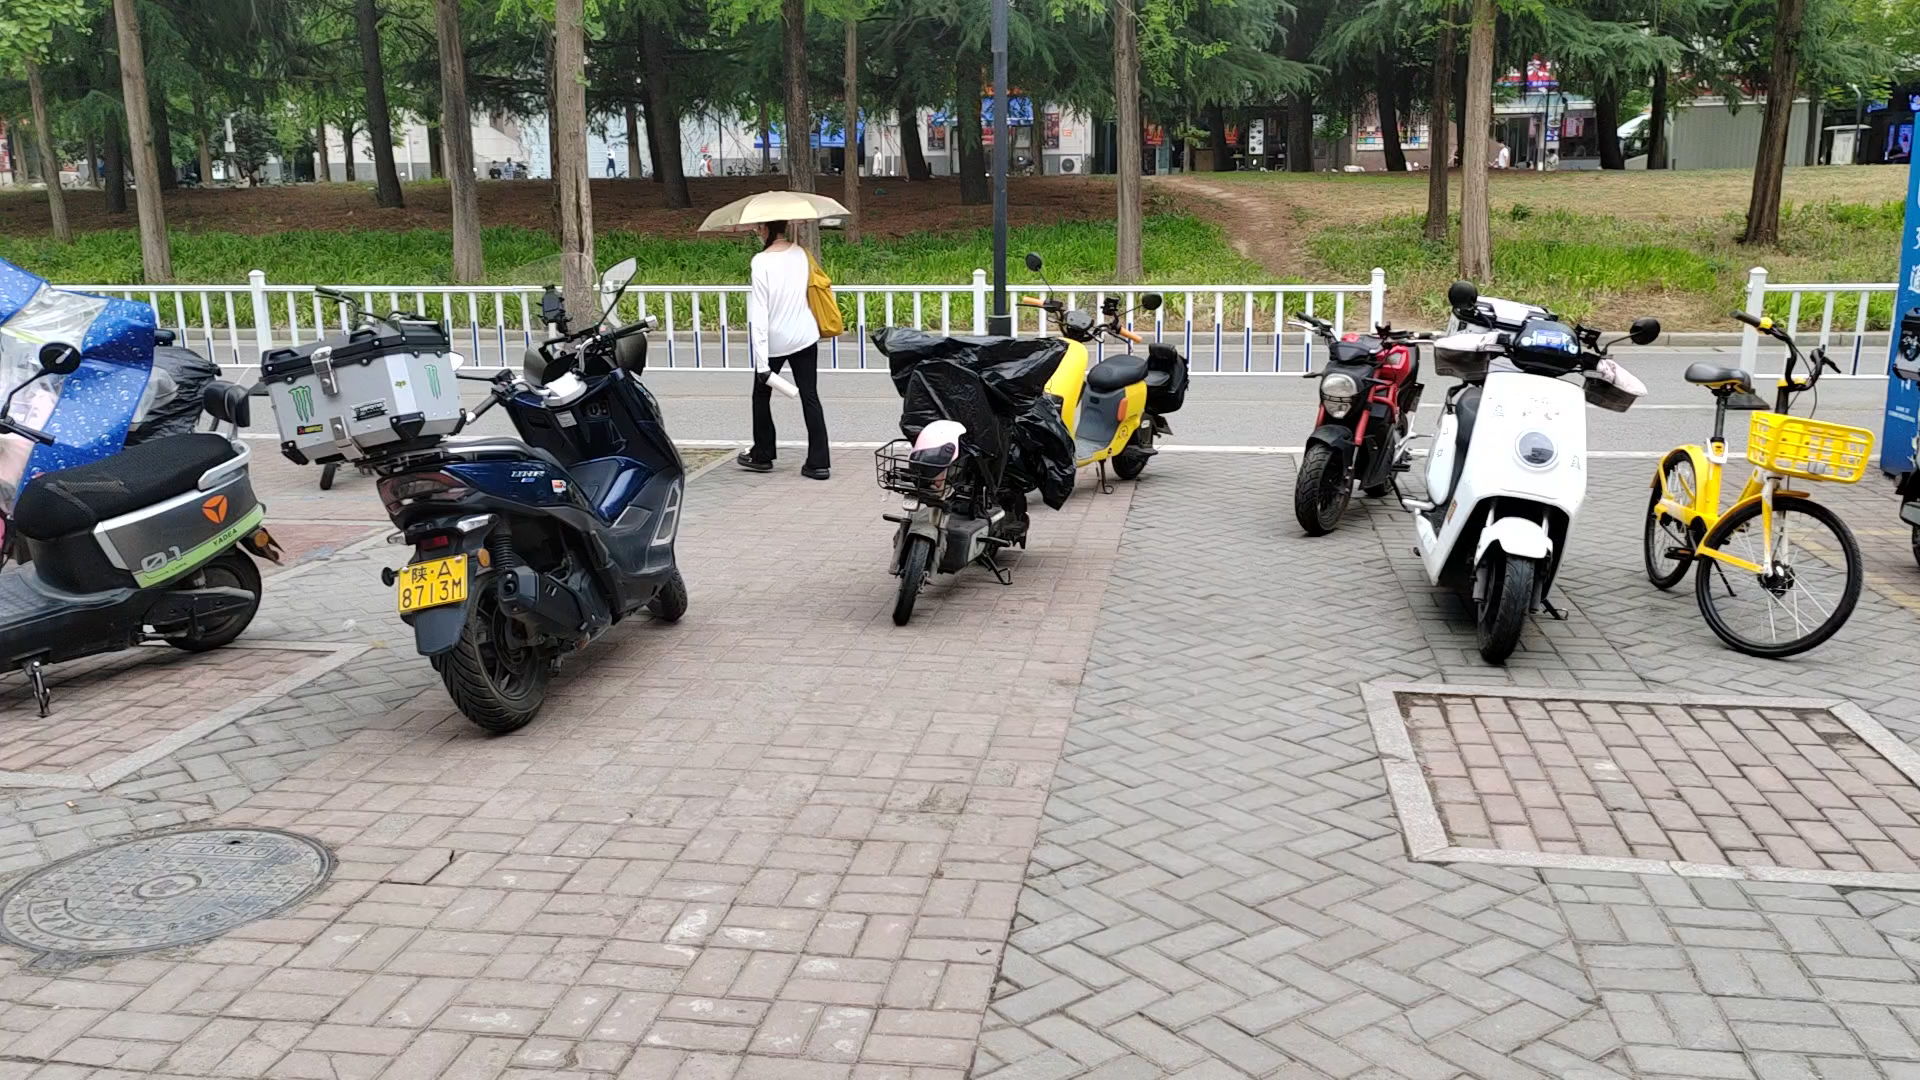others: (287, 287, 698, 736), (11, 265, 260, 724), (1427, 276, 1610, 655), (873, 318, 1052, 592), (1014, 268, 1189, 516), (1305, 318, 1411, 521)
shared_bike_meituan: (1655, 272, 1869, 680)
